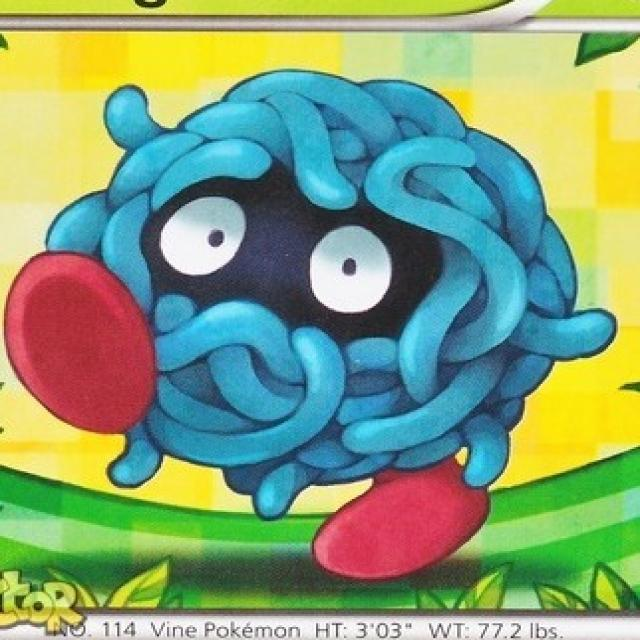Tangela: (55, 71, 578, 507)
